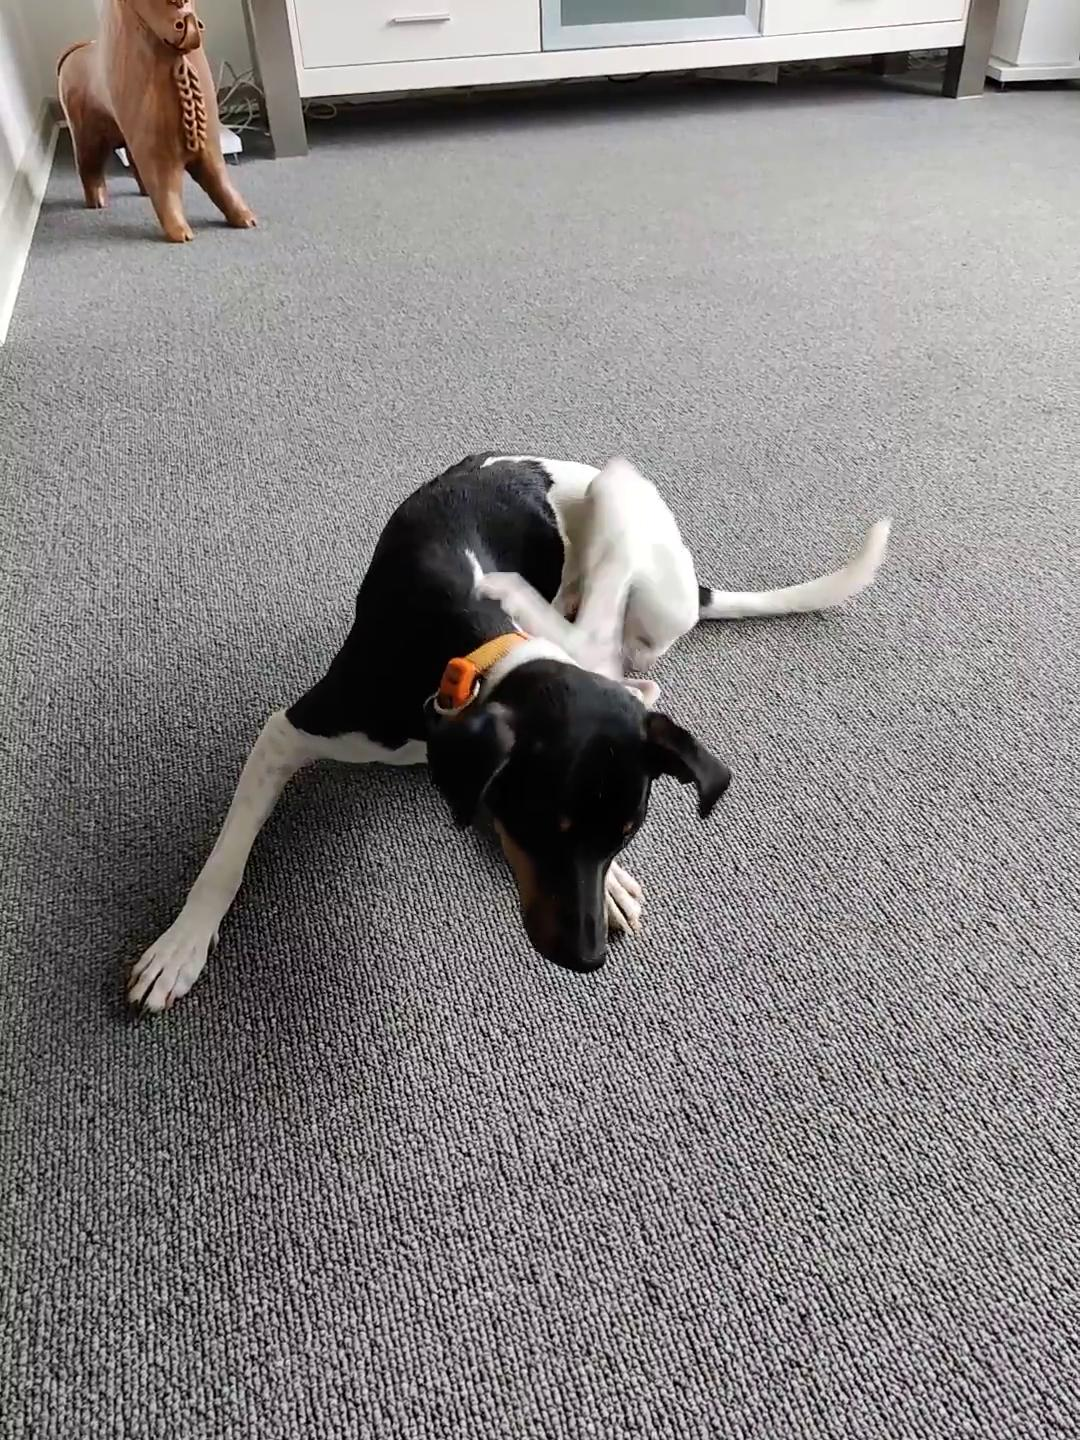Dog: (123, 447, 897, 1019)
